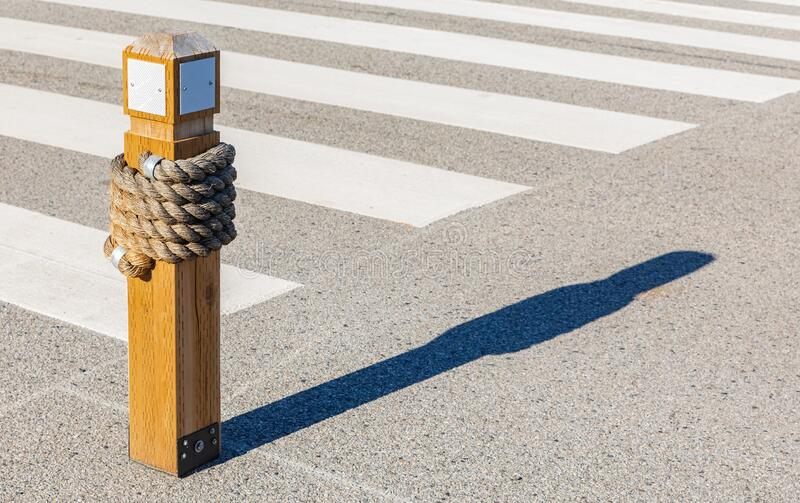bollard: (121, 38, 225, 474)
zebracross: (231, 8, 800, 196)
